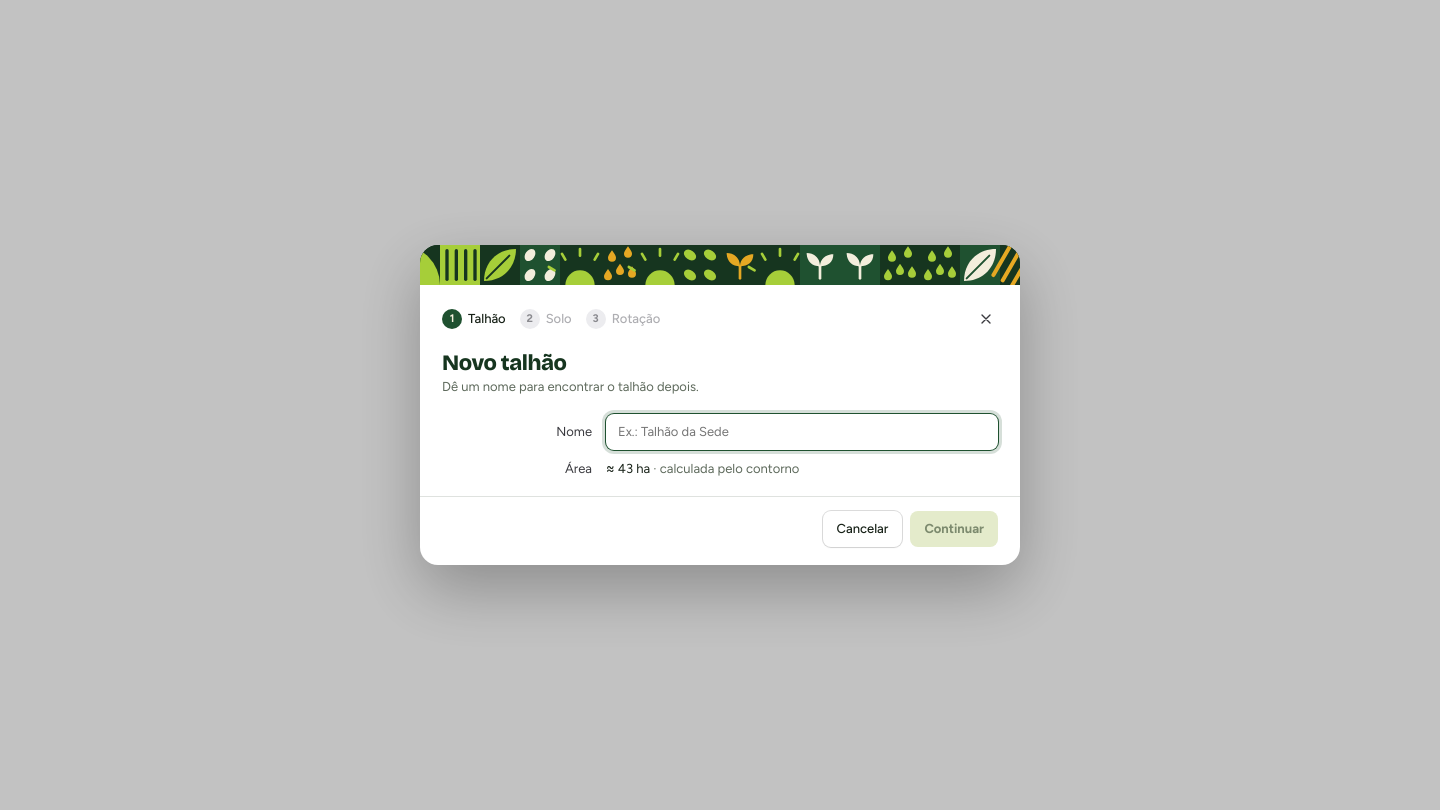
JanelaPassos (novo talhão) › Solo exige textura; Não sei vale
Type "Sede" into the field labelled "Nome". click: (802, 432)
box: top-left (616, 422), bottom-right (988, 442)
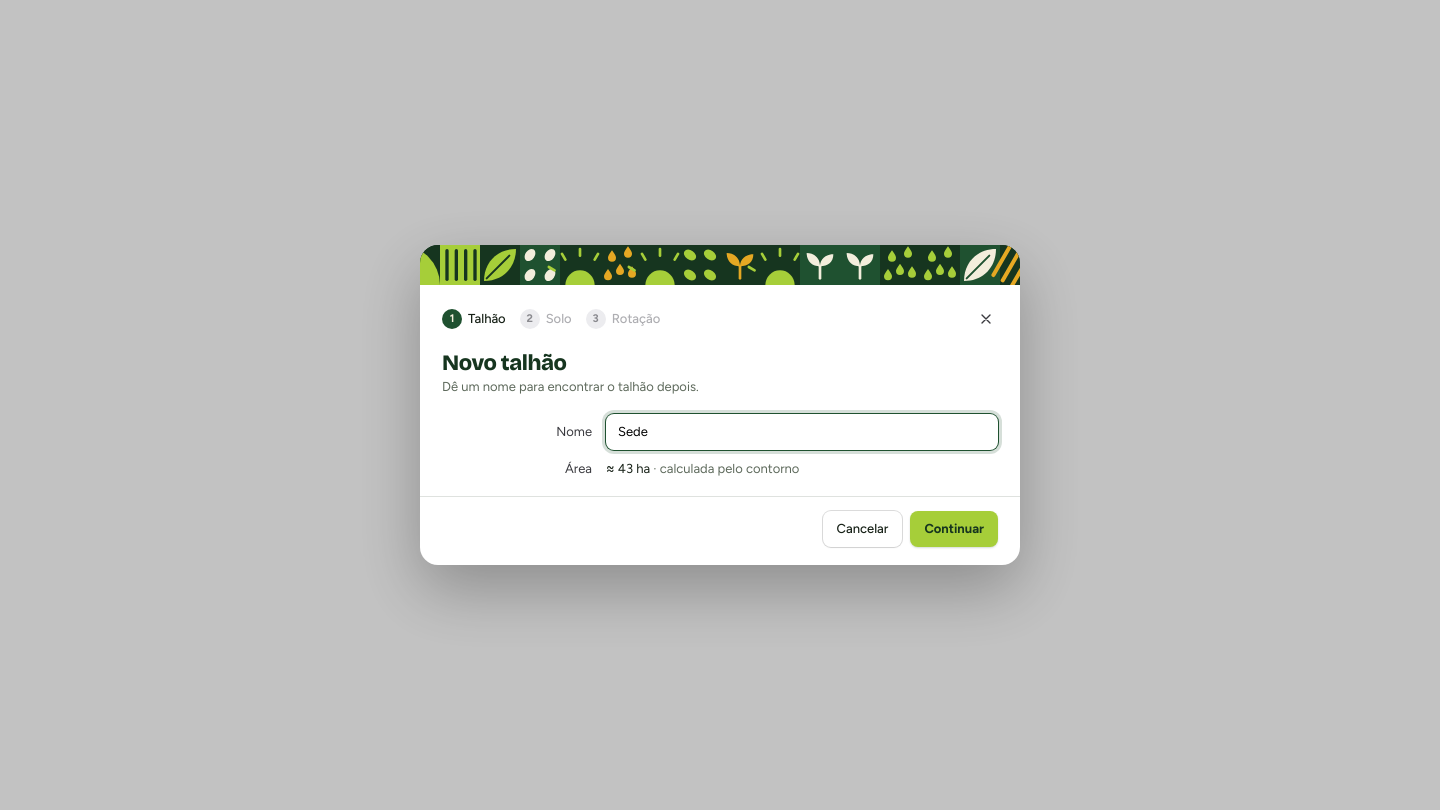
Click the button "Continuar". click: (954, 529)
box: top-left (910, 511), bottom-right (998, 547)
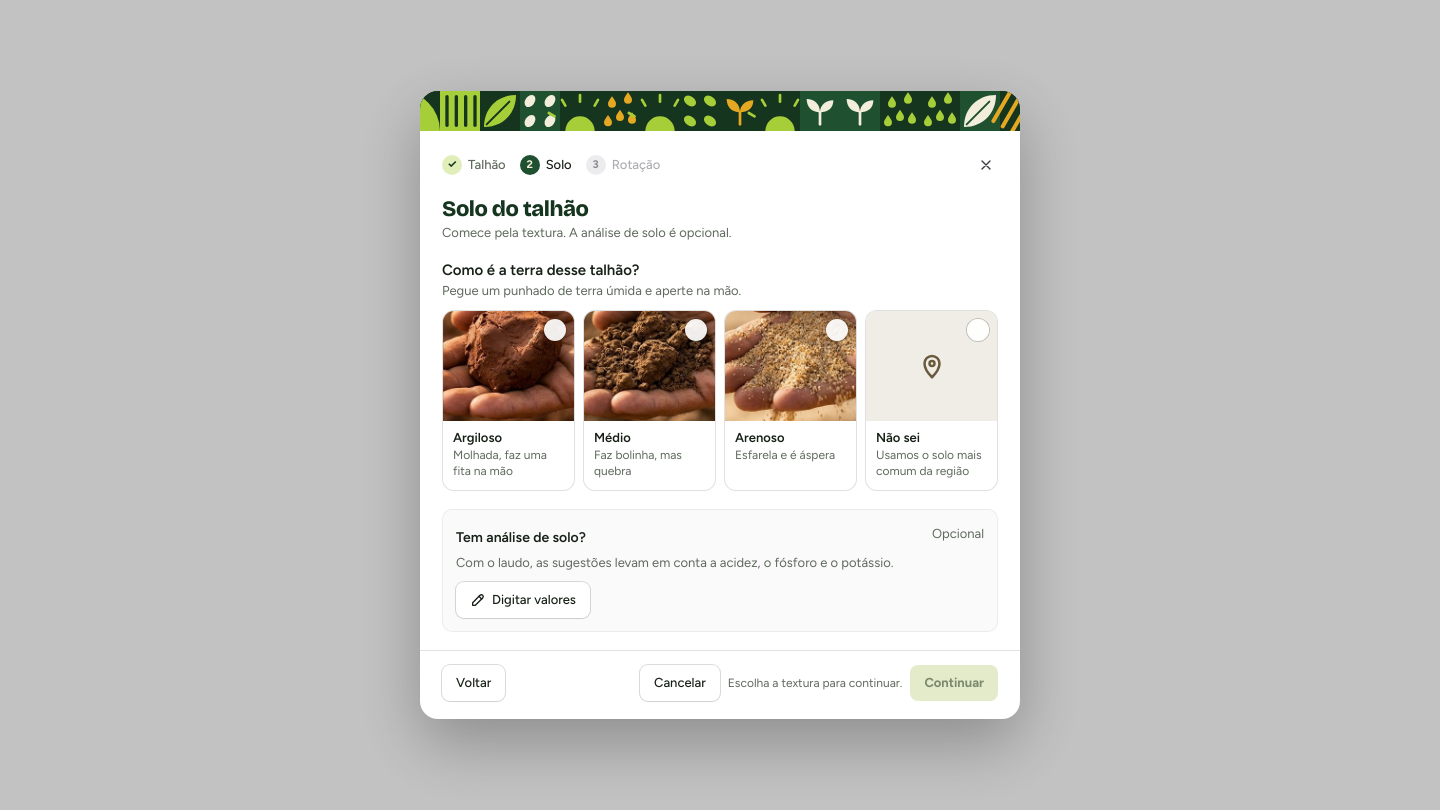
Expected: the button "Continuar" is disabled, top-left (910, 665), bottom-right (998, 701)
Click the radio button labelled "Não sei Usamos o solo mais comum da região". click: (932, 400)
box: top-left (865, 310), bottom-right (998, 490)
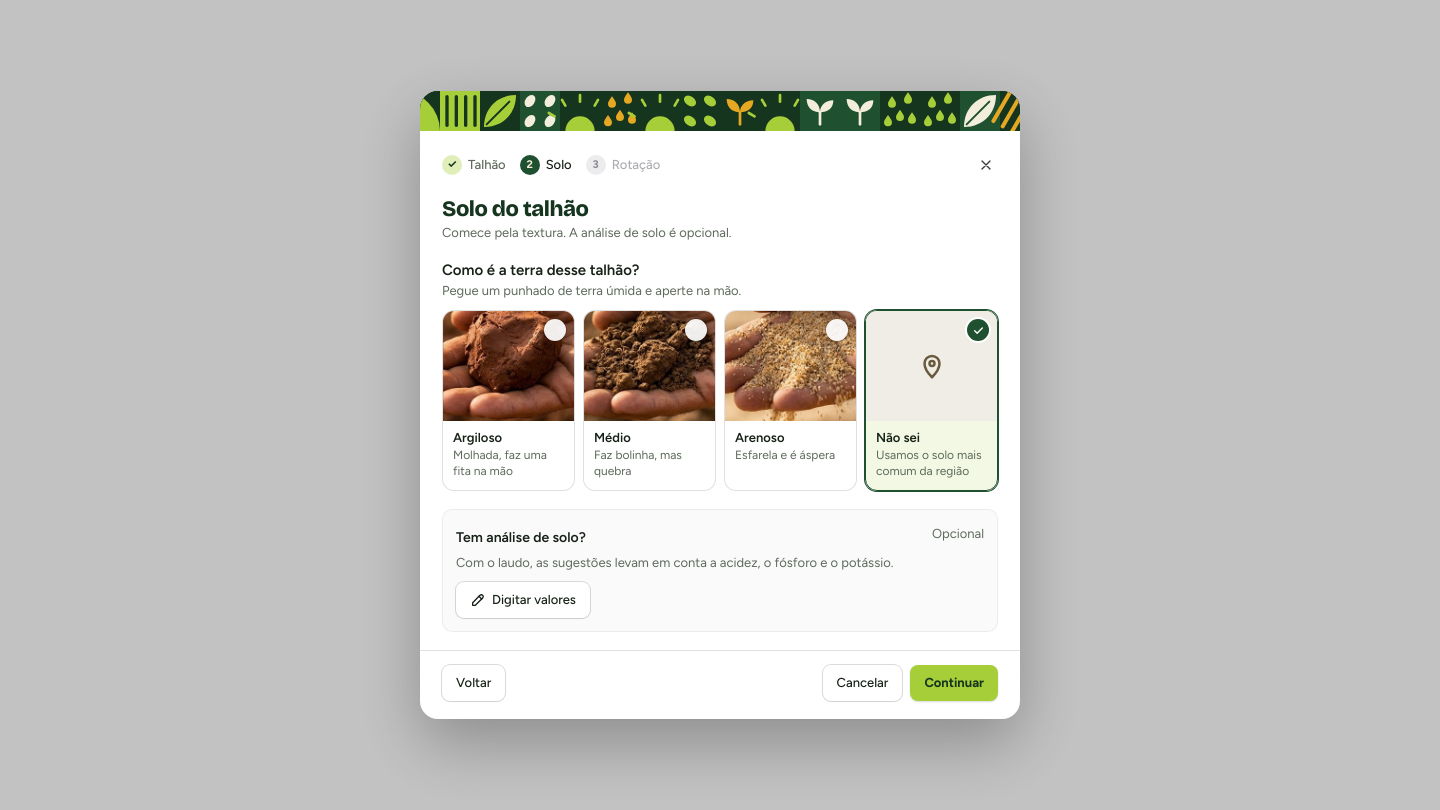
Expected: the button "Continuar" is enabled, top-left (910, 665), bottom-right (998, 701)
